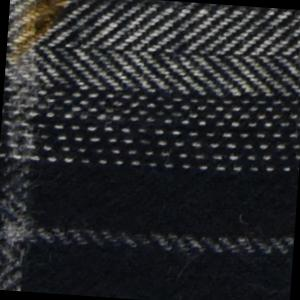Damage: (15, 1, 75, 57)
Oil Stain: (6, 1, 89, 75)
